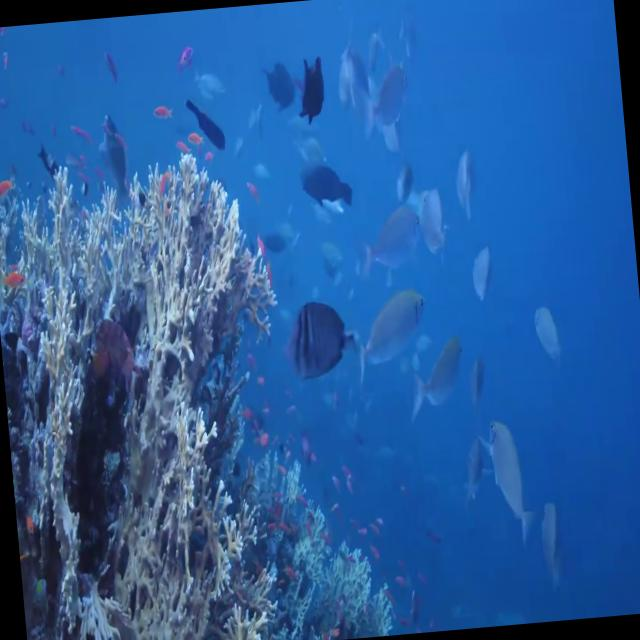fish: (352, 289, 438, 387), (404, 332, 476, 434), (486, 413, 535, 542), (282, 298, 356, 382), (358, 200, 428, 276), (294, 54, 328, 121)
